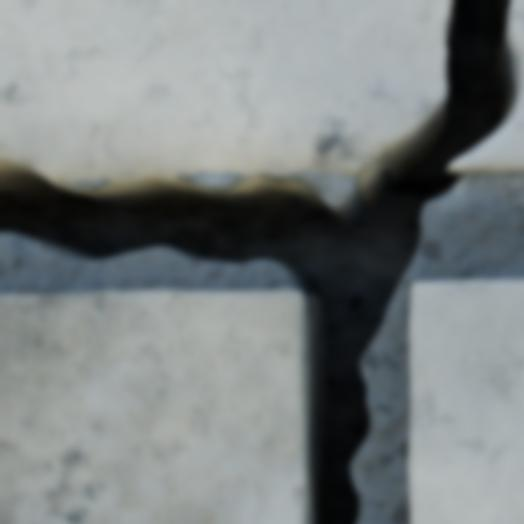brick: (0, 290, 304, 523), (409, 279, 523, 523)
broken_brick: (0, 0, 446, 183), (453, 90, 523, 173), (512, 0, 523, 55)
crack: (0, 0, 523, 523)
